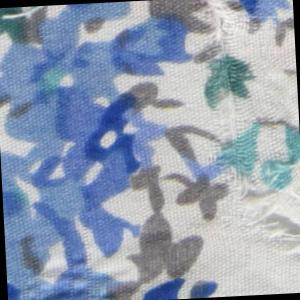Damage: (199, 1, 300, 271), (6, 238, 115, 300)
